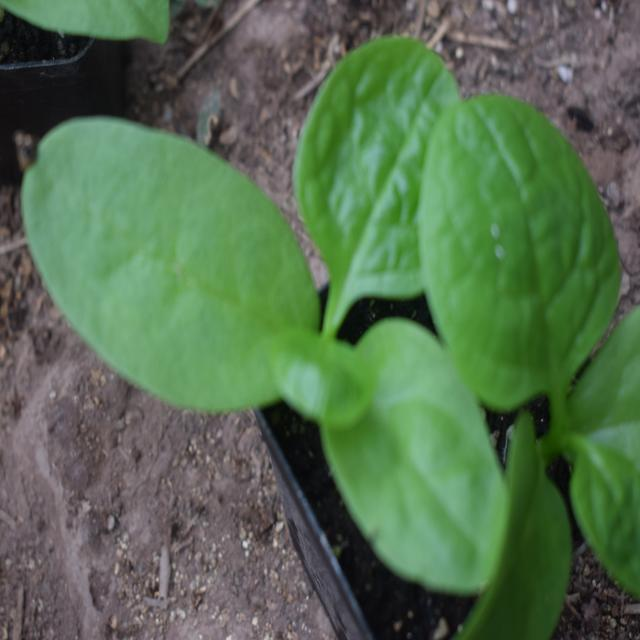Ceylon spinach: (17, 62, 570, 598)
